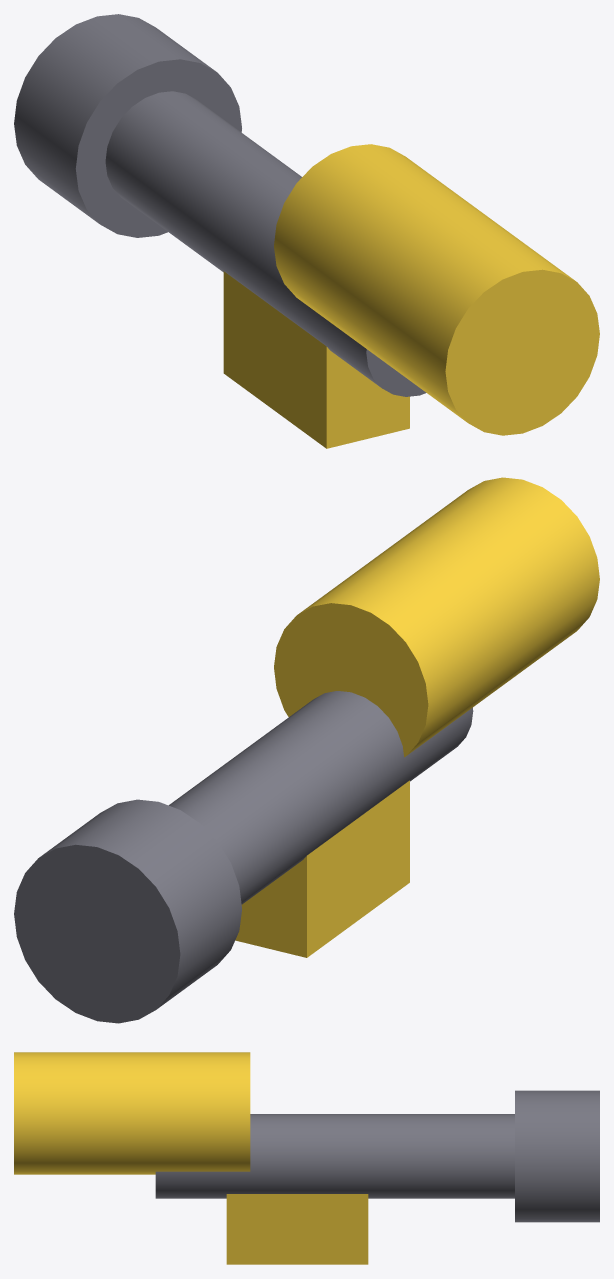
Rendered from gs_vacuum.gltf.
The picture shows the model from 3 angles, top to bottom: view 1: azimuth 30°, elevation 25°; view 2: azimuth 150°, elevation 25°; view 3: azimuth 270°, elevation 25°; orthographic projection. The views are drawn at different scales.
Parts seen in each view (by area): view 1: gs_vacuum; view 2: gs_vacuum; view 3: gs_vacuum.
Part boxes in pixels (bbox=[...]): gs_vacuum: bbox=[14, 14, 599, 448]; gs_vacuum: bbox=[14, 477, 599, 1023]; gs_vacuum: bbox=[14, 1052, 599, 1264].
Size of the model in its own units: 0.28 by 0.45 by 1.24.
